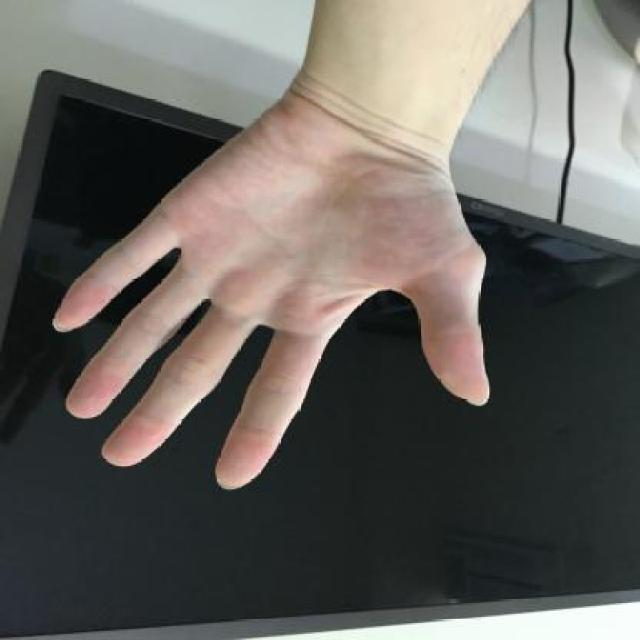bare_hand: (41, 87, 500, 498)
